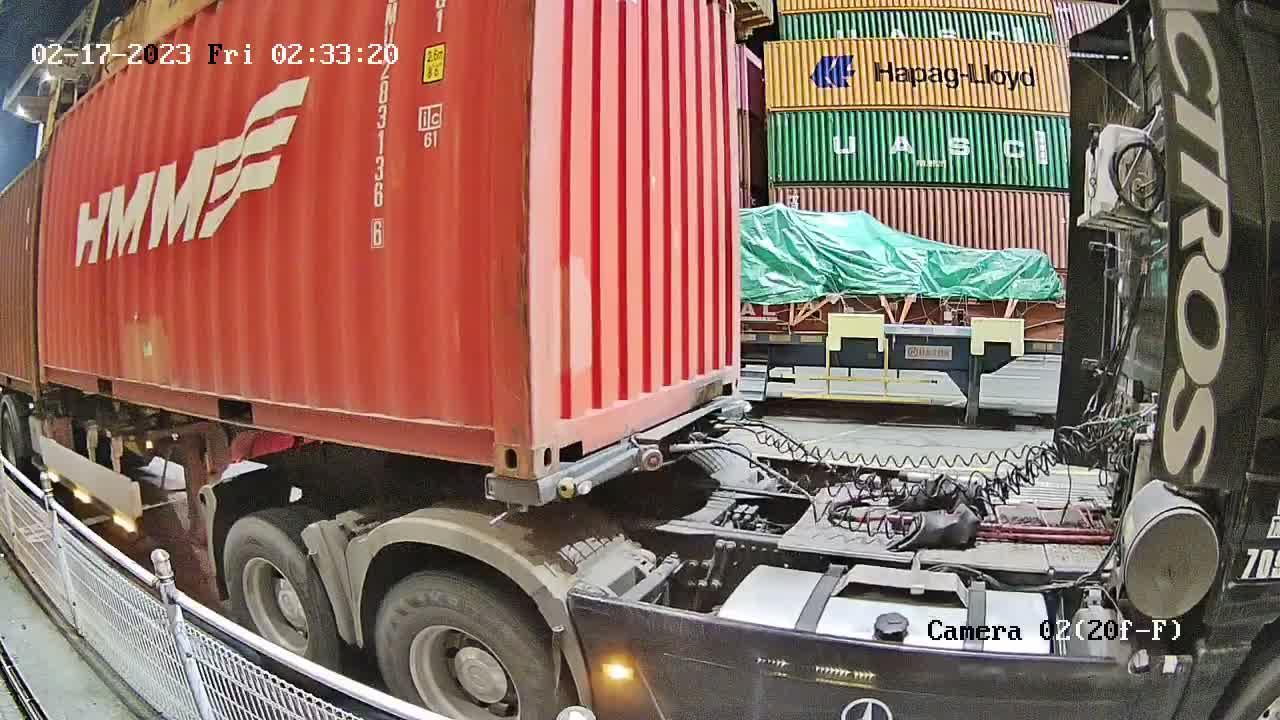Chassis: (489, 394, 752, 506)
Cone: (500, 480, 535, 519)
Hole_L: (529, 399, 583, 480)
Hole_R: (469, 401, 529, 481), (714, 353, 741, 397)
Tire: (375, 575, 558, 718), (224, 519, 338, 695)
